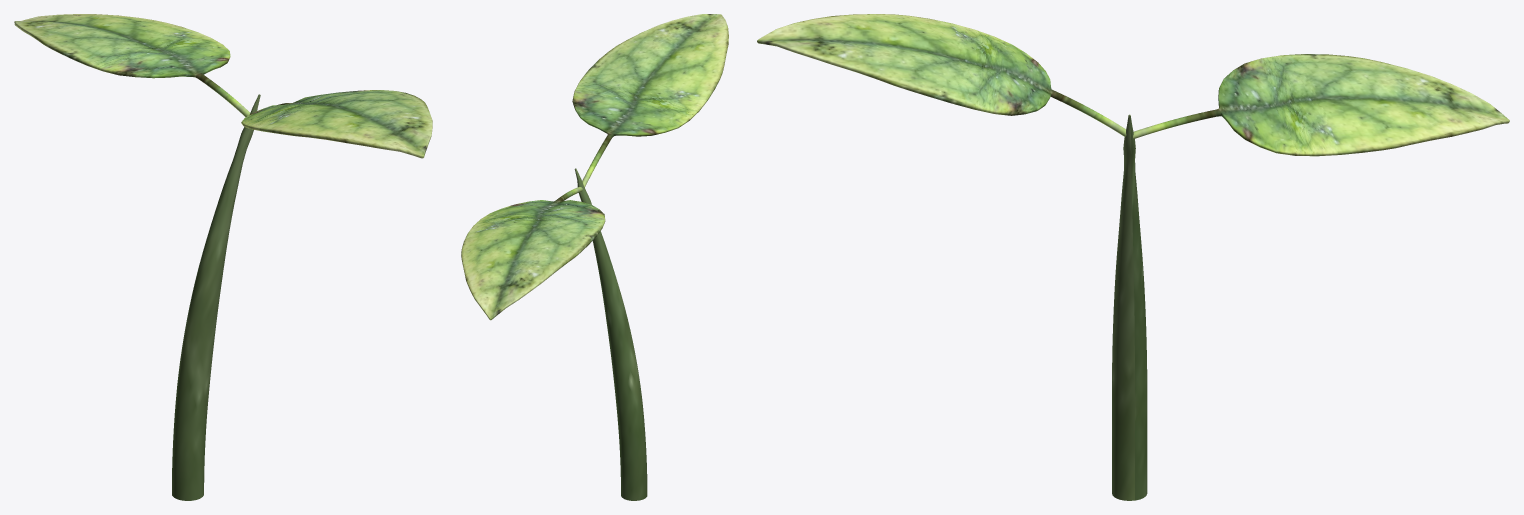
File: Plant.fbx
3 renders of one model, left to right at view 1: azimuth 30°, elevation 25°; view 2: azimuth 150°, elevation 25°; view 3: azimuth 270°, elevation 25°, orthographic. The views are drawn at different scales.
Visible parts, largest first — view 1: leaf2, stem1, leaf1; view 2: leaf1, leaf2, stem1; view 3: leaf2, leaf1, stem1.
Part boxes in pixels (x1=…): leaf2: x1=14, y1=14, x2=250, y2=117; stem1: x1=172, y1=94, x2=260, y2=500; leaf1: x1=241, y1=90, x2=432, y2=158; leaf1: x1=572, y1=14, x2=728, y2=187; leaf2: x1=461, y1=187, x2=605, y2=320; stem1: x1=574, y1=168, x2=647, y2=500; leaf2: x1=1133, y1=54, x2=1509, y2=156; leaf1: x1=757, y1=14, x2=1126, y2=136; stem1: x1=1112, y1=114, x2=1147, y2=500.
Bounding box in the file's own units: 1.87 × 4.61 × 6.39.
Materials: 2 (2 with a texture image).
